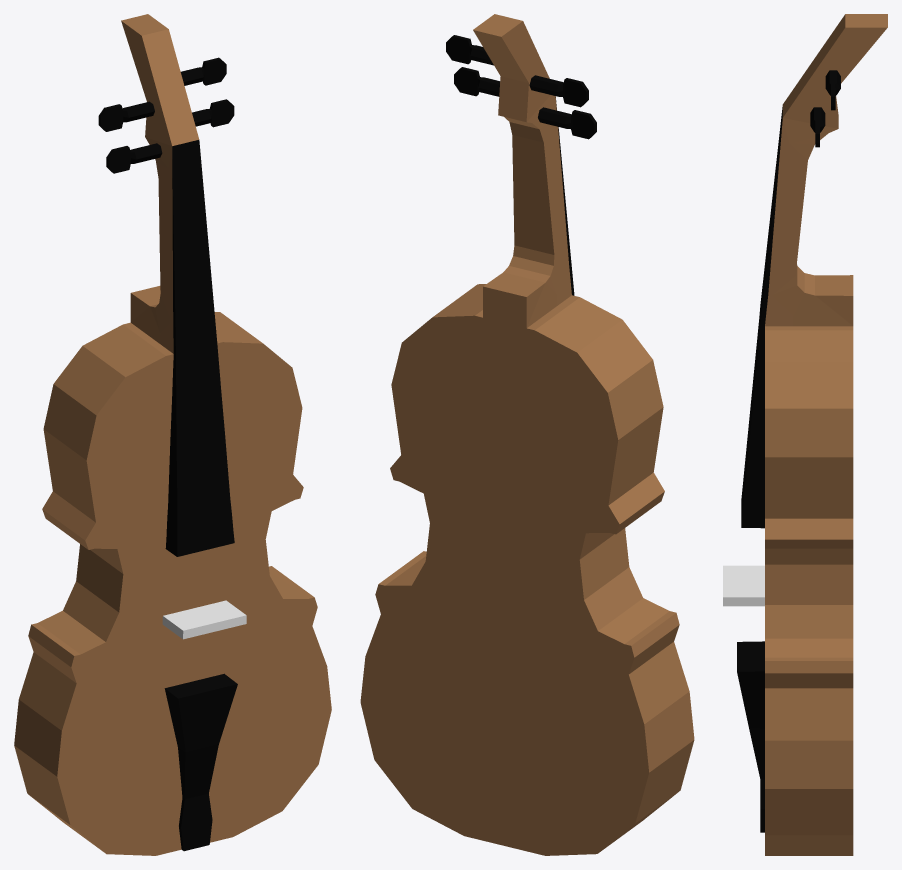
The model's file is Violin.fbx.
The picture shows the model from 3 angles, left to right: view 1: azimuth 30°, elevation 25°; view 2: azimuth 150°, elevation 25°; view 3: azimuth 270°, elevation 25°; orthographic projection. The views are drawn at different scales.
Parts seen in each view (by area): view 1: Cube; view 2: Cube; view 3: Cube.
Boxes of the visible parts, x1,y1,x2,y2 form: Cube: (14,14,331,855); Cube: (360,14,694,855); Cube: (723,14,887,855).
Size of the model in its own units: 20.8 by 56.83 by 10.54.
